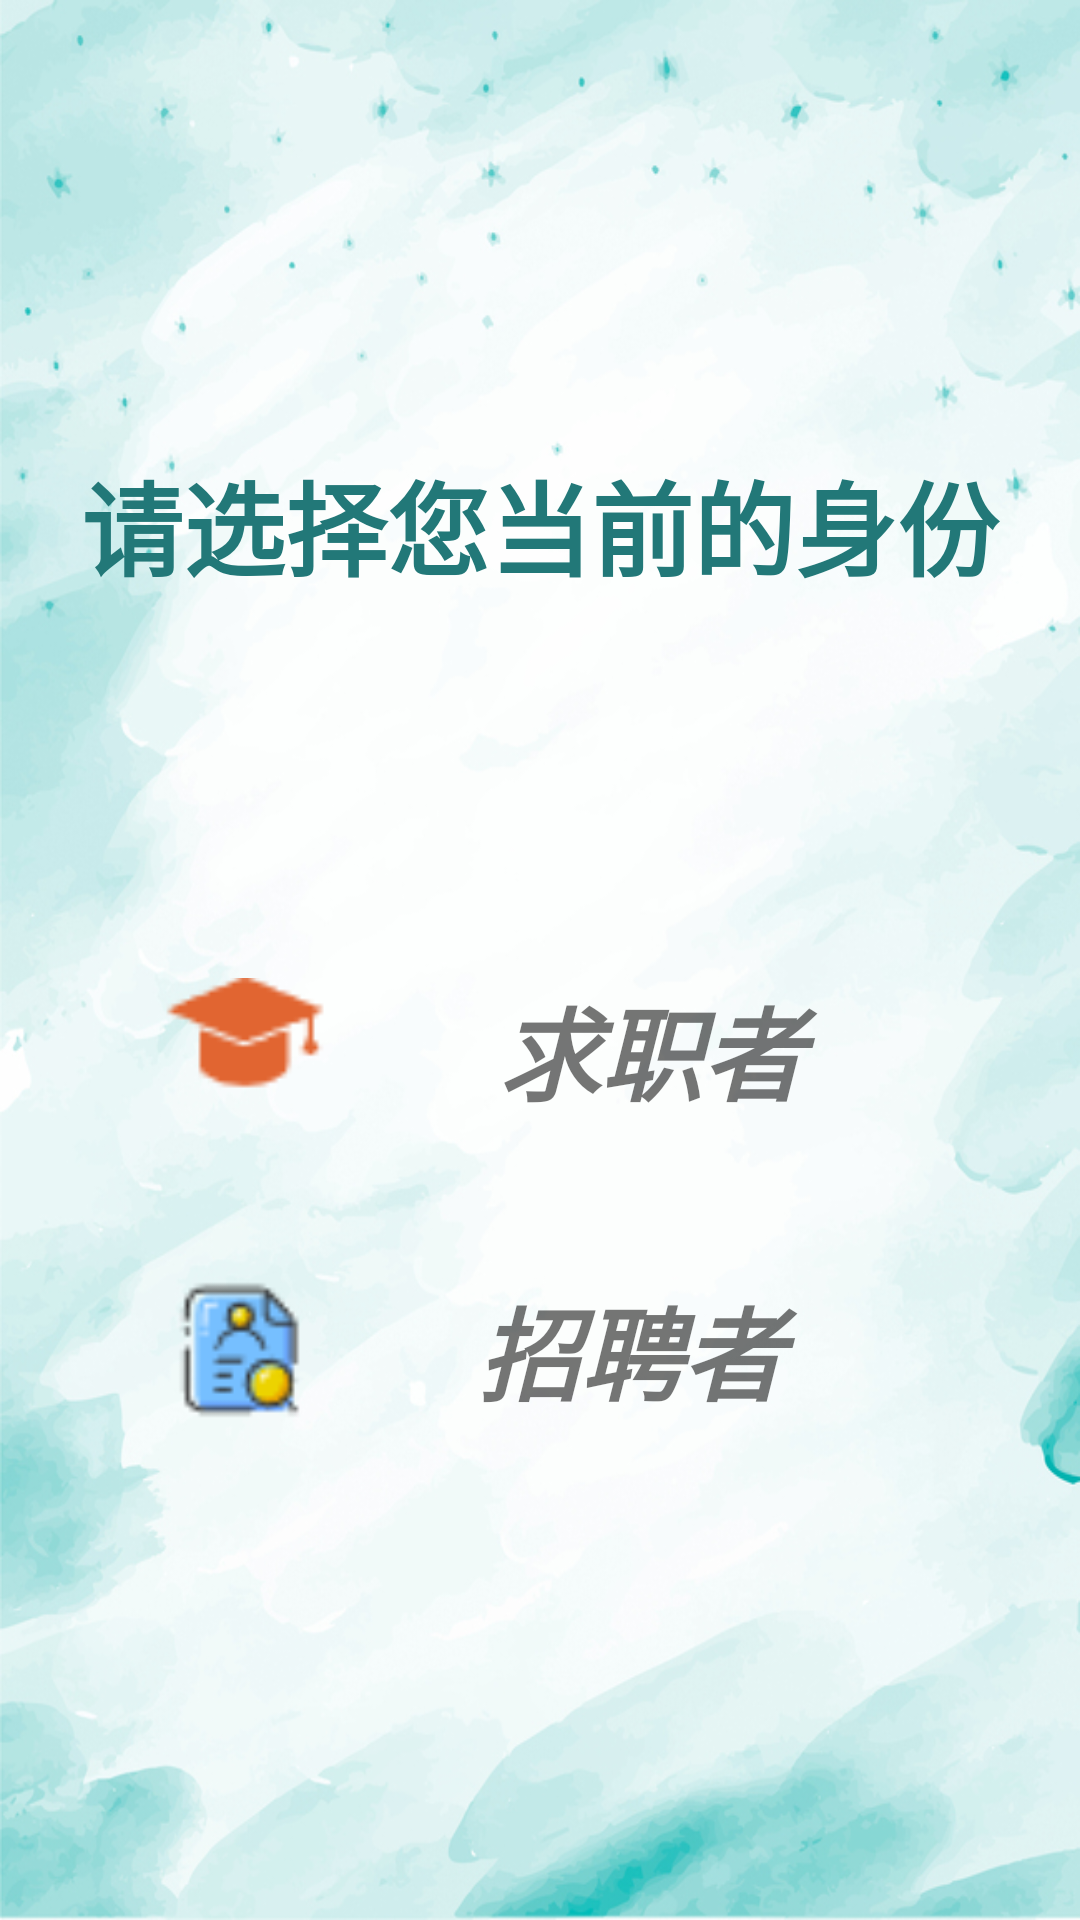

Locate icon controls on the screen. Image size 1080x1920, boxes as [x1,y1,x2,y2].
qiuzhi: [150,978,323,1088]
zhaopin: [180,1282,300,1416]
